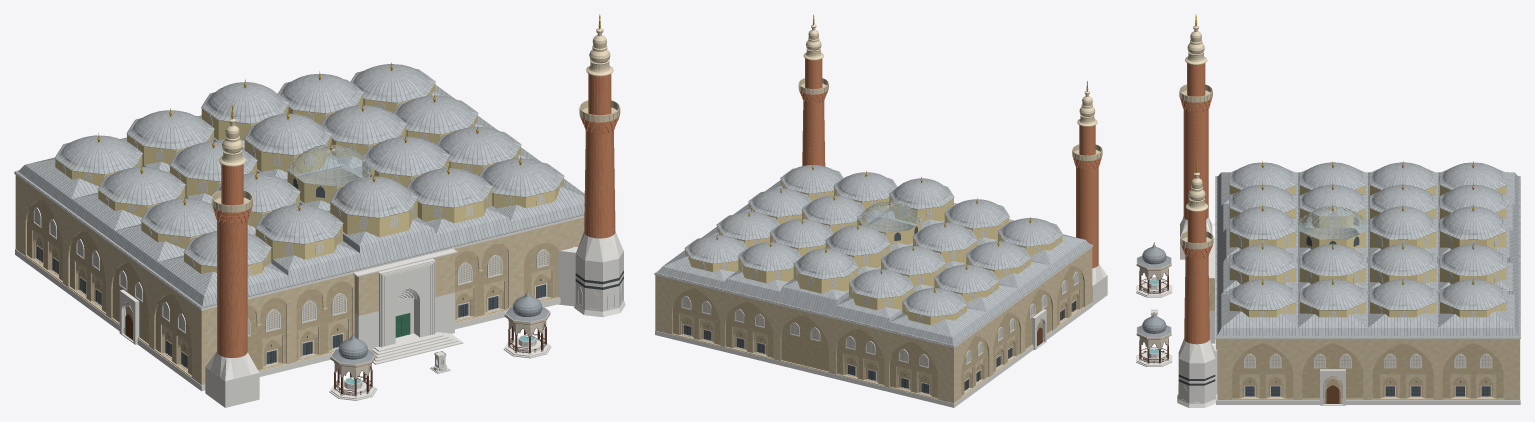
The model's file is ulu-cami_v32.glb.
3 renders of one model, left to right at view 1: azimuth 30°, elevation 25°; view 2: azimuth 150°, elevation 25°; view 3: azimuth 270°, elevation 25°, orthographic. The views are drawn at different scales.
Visible parts, largest first — view 1: Kubbeler_19, Cati, Cephe_Kuzey, Cephe_Dogu, Minare_1, Minare_2, Pencere_Girintileri, Tac_Kapi, Giris_Cikintili_Blok, Sadirvan_Kubbe, Kasnak_Pencereleri, Avlu_Sadirvan_Bati (+6 smaller); view 2: Kubbeler_19, Cephe_Guney, Cati, Cephe_Dogu, Pencere_Girintileri, Minare_2, Minare_1, Mermer_Bant, Sadirvan_Kubbe, Kasnak_Pencereleri, Silme_Ust, Sadirvan_Iskeleti (+1 smaller); view 3: Kubbeler_19, Cephe_Bati, Cati, Minare_1, Minare_2, Pencere_Girintileri, Sadirvan_Kubbe, Kasnak_Pencereleri, Avlu_Sadirvan_Dogu, Avlu_Sadirvan_Bati, Mermer_Bant, Kapi_Bati (+3 smaller).
Part boxes in pixels (x1,y1,x2,y2): Kubbeler_19: [54, 64, 564, 276]; Cati: [14, 84, 584, 308]; Cephe_Kuzey: [201, 217, 584, 384]; Cephe_Dogu: [16, 175, 200, 384]; Minare_1: [558, 14, 625, 317]; Minare_2: [205, 104, 259, 407]; Pencere_Girintileri: [31, 229, 553, 372]; Tac_Kapi: [371, 258, 463, 364]; Giris_Cikintili_Blok: [353, 248, 457, 350]; Sadirvan_Kubbe: [287, 145, 374, 203]; Kasnak_Pencereleri: [61, 90, 560, 275]; Avlu_Sadirvan_Bati: [503, 290, 551, 358]; Kubbeler_19: [684, 165, 1062, 325]; Cephe_Guney: [655, 275, 954, 403]; Cati: [654, 180, 1092, 346]; Cephe_Dogu: [954, 248, 1091, 402]; Pencere_Girintileri: [678, 287, 1080, 396]; Minare_2: [1072, 81, 1107, 305]; Minare_1: [798, 14, 828, 166]; Mermer_Bant: [655, 302, 1092, 407]; Sadirvan_Kubbe: [857, 202, 922, 245]; Kasnak_Pencereleri: [687, 184, 1058, 322]; Silme_Ust: [654, 245, 1093, 347]; Sadirvan_Iskeleti: [857, 201, 922, 231]; Kubbeler_19: [1229, 162, 1506, 317]; Cephe_Bati: [1217, 339, 1518, 403]; Cati: [1215, 172, 1520, 337]; Minare_1: [1177, 161, 1217, 407]; Minare_2: [1179, 14, 1212, 259]; Pencere_Girintileri: [1239, 374, 1496, 398]; Sadirvan_Kubbe: [1299, 207, 1366, 249]; Kasnak_Pencereleri: [1236, 185, 1499, 316]; Avlu_Sadirvan_Dogu: [1136, 242, 1172, 297]; Avlu_Sadirvan_Bati: [1136, 312, 1172, 366]; Mermer_Bant: [1215, 339, 1520, 404]; Kapi_Bati: [1320, 369, 1345, 405].
Bounding box in the file's own units: 70.59 × 48.1 × 70.23.
36 materials, 8 textured.
